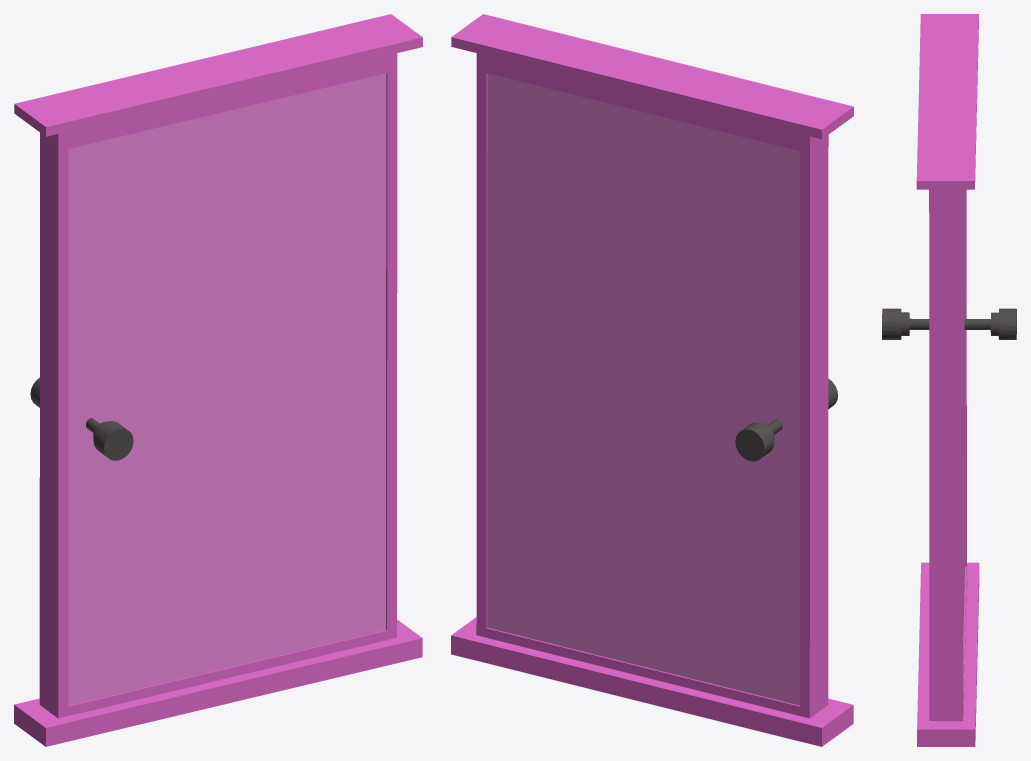
File: anywheredoor.glb
The picture shows the model from 3 angles, left to right: view 1: azimuth 30°, elevation 25°; view 2: azimuth 150°, elevation 25°; view 3: azimuth 270°, elevation 25°; orthographic projection. The views are drawn at different scales.
Visible parts, largest first — view 1: Object_2, Object_4, Object_3; view 2: Object_2, Object_4, Object_3; view 3: Object_4, Object_3, Object_2.
Boxes of the visible parts, box(x1,y1,x2,y2) form: Object_2: box(68, 73, 386, 705); Object_4: box(14, 14, 422, 746); Object_3: box(30, 377, 133, 460); Object_2: box(487, 73, 799, 705); Object_4: box(451, 14, 853, 746); Object_3: box(735, 378, 837, 461); Object_4: box(916, 14, 979, 746); Object_3: box(882, 308, 1016, 339); Object_2: box(963, 189, 964, 632).
Bounding box in the file's own units: 0.5365 × 0.848 × 0.1831.
